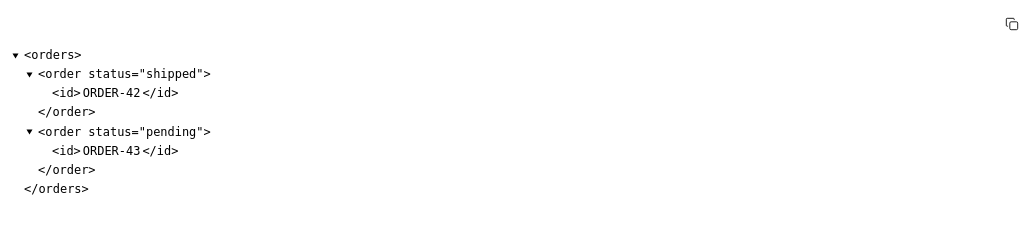
Scenario: find in an XML document (Ctrl+F) › stops counting rows inside a subtree the reader has collapsed
Press f
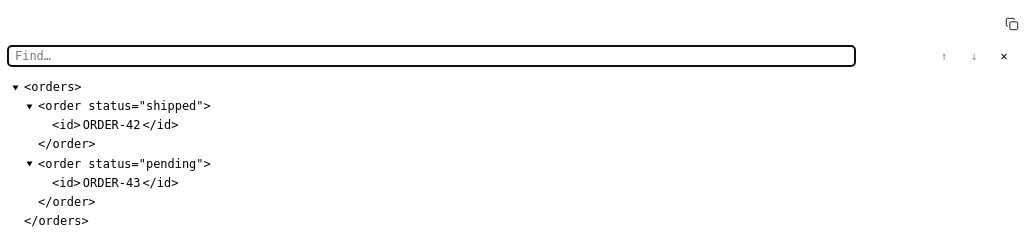
Type "ORDER-" into the field named "Find in document".
click(432, 56); type("ORDER-")  # box x1=8 y1=46 x2=855 y2=66
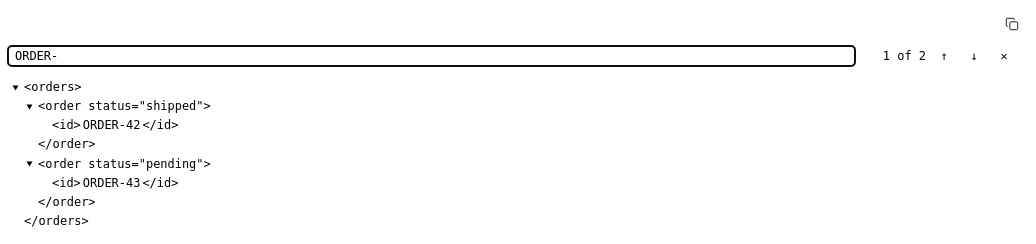
Check: the text "1 of 2" is shown, box x1=883 y1=49 x2=926 y2=63
Click the button named "Collapse order" next to "<order status=\"shipped\">".
click(29, 107)  # box x1=22 y1=100 x2=36 y2=114
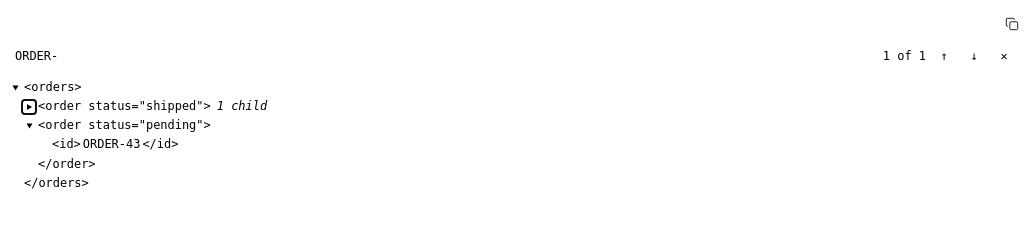
Check: the text "1 of 1" is shown, box x1=883 y1=49 x2=926 y2=63
